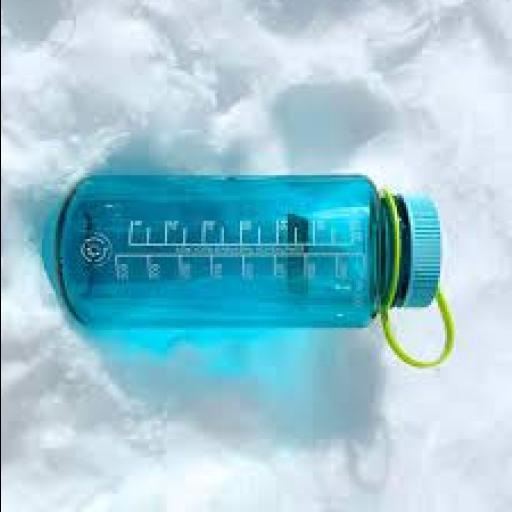blue-bottle: (61, 175, 453, 366)
